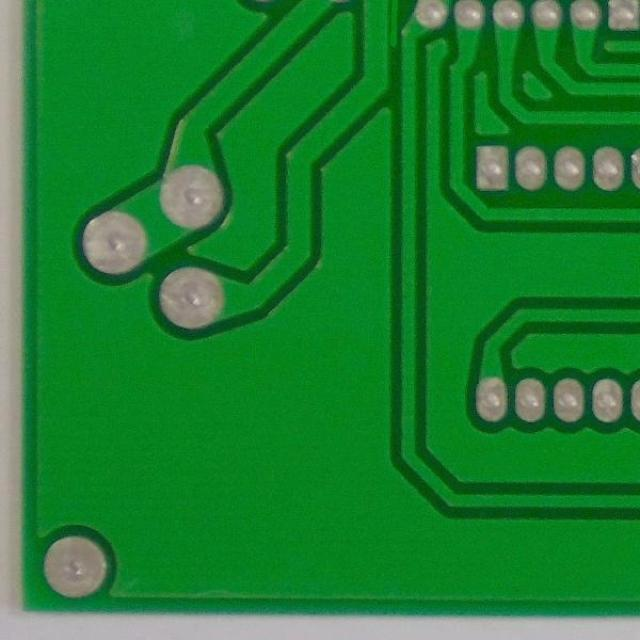spurious_copper: (381, 1, 408, 52)
